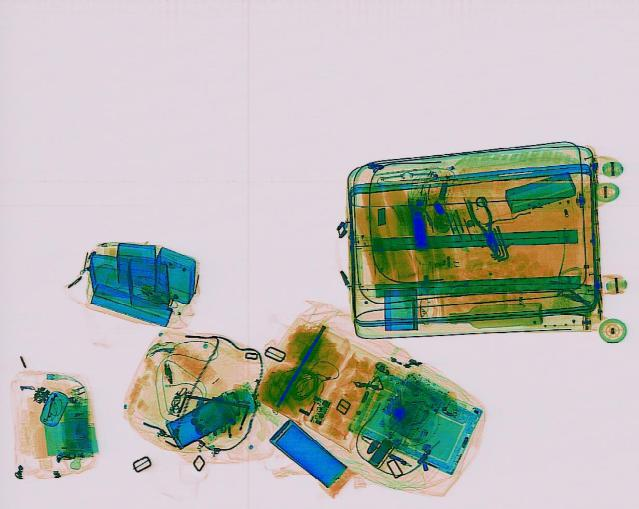Pliers: (463, 195, 505, 254)
